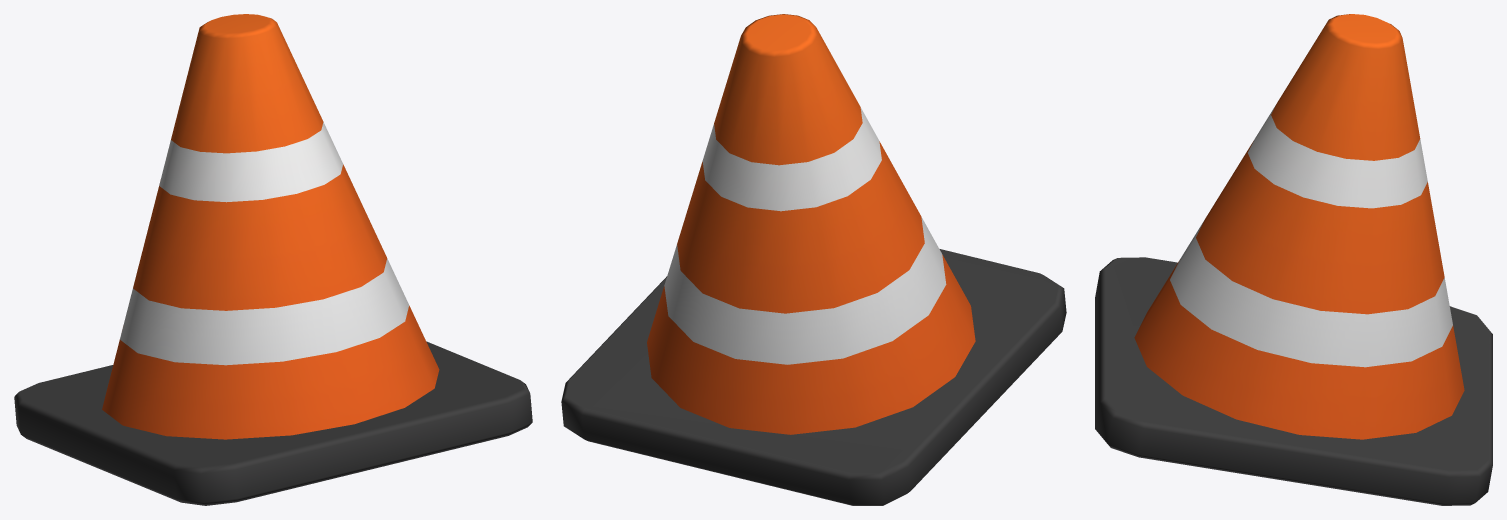
The model's file is Hat_35.glb.
3 views of the same model, side by side, from view 1: azimuth 30°, elevation 25°; view 2: azimuth 150°, elevation 25°; view 3: azimuth 270°, elevation 25° (orthographic). The views are drawn at different scales.
Visible parts, largest first — view 1: Hat_35; view 2: Hat_35; view 3: Hat_35.
Boxes of the visible parts, <box> form: Hat_35: <box>14,14,532,505</box>; Hat_35: <box>561,14,1066,505</box>; Hat_35: <box>1095,14,1492,505</box>.
Bounding box in the file's own units: 0.7143 × 0.803 × 0.712.
Materials: 1 (1 with a texture image).
